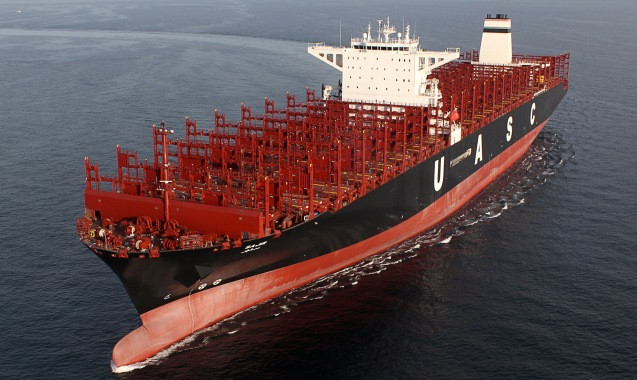Cargoship: (67, 10, 572, 370)
